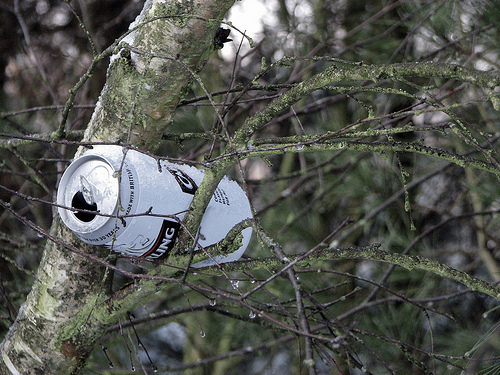litter: (55, 144, 252, 263)
